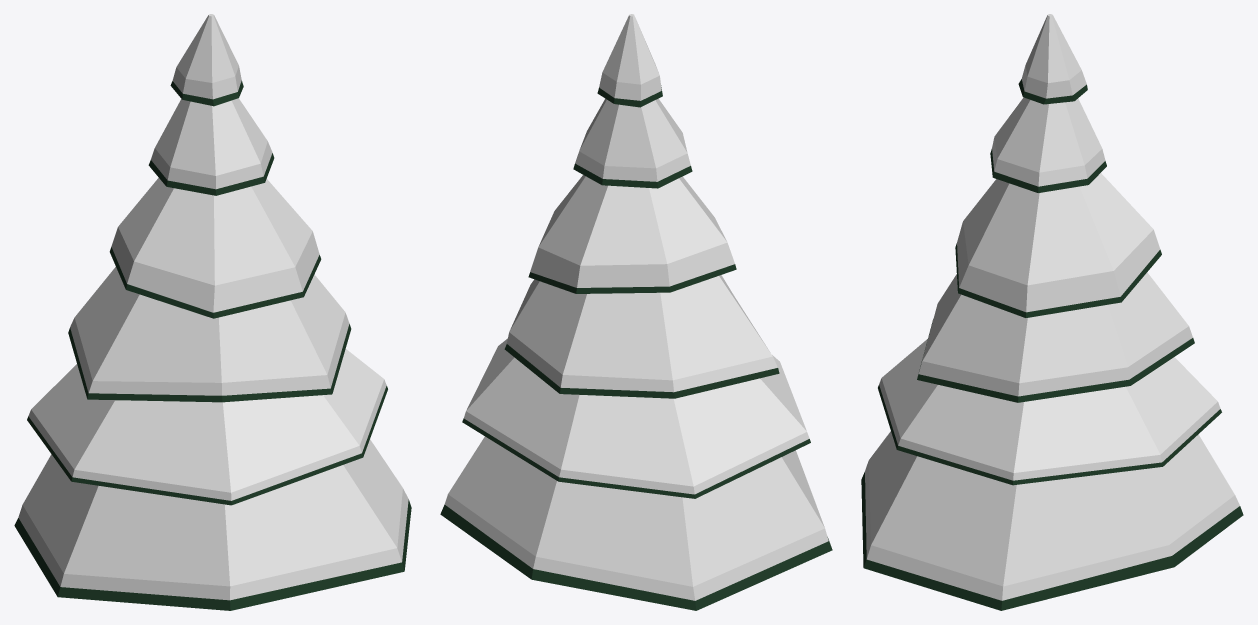
The model's file is tree_snowed01.glb.
The picture shows the model from 3 angles, left to right: view 1: azimuth 30°, elevation 25°; view 2: azimuth 150°, elevation 25°; view 3: azimuth 270°, elevation 25°; orthographic projection.
Parts seen in each view (by area): view 1: Cylinder; view 2: Cylinder; view 3: Cylinder.
Part boxes in pixels (x1,y1,x2,y2): Cylinder: [14, 14, 411, 610]; Cylinder: [440, 14, 832, 610]; Cylinder: [861, 14, 1243, 610].
Size of the model in its own units: 1.88 by 2.93 by 1.77.
